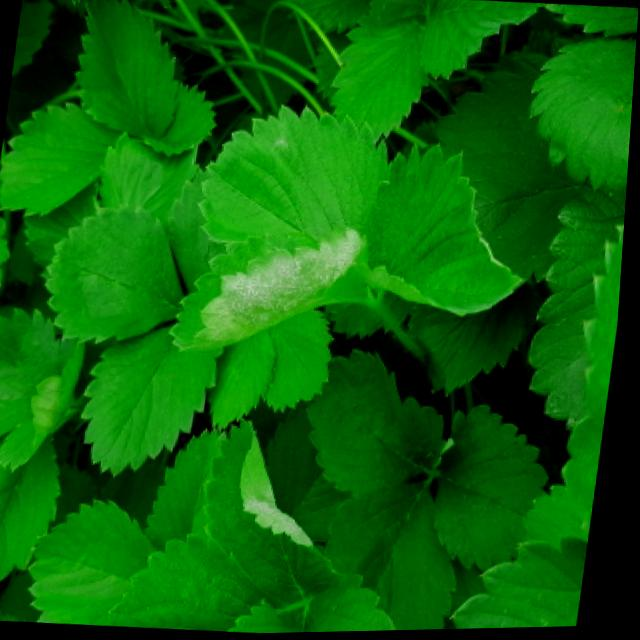Powdery Mildew Leaf: (206, 419, 373, 609), (175, 230, 371, 352)
